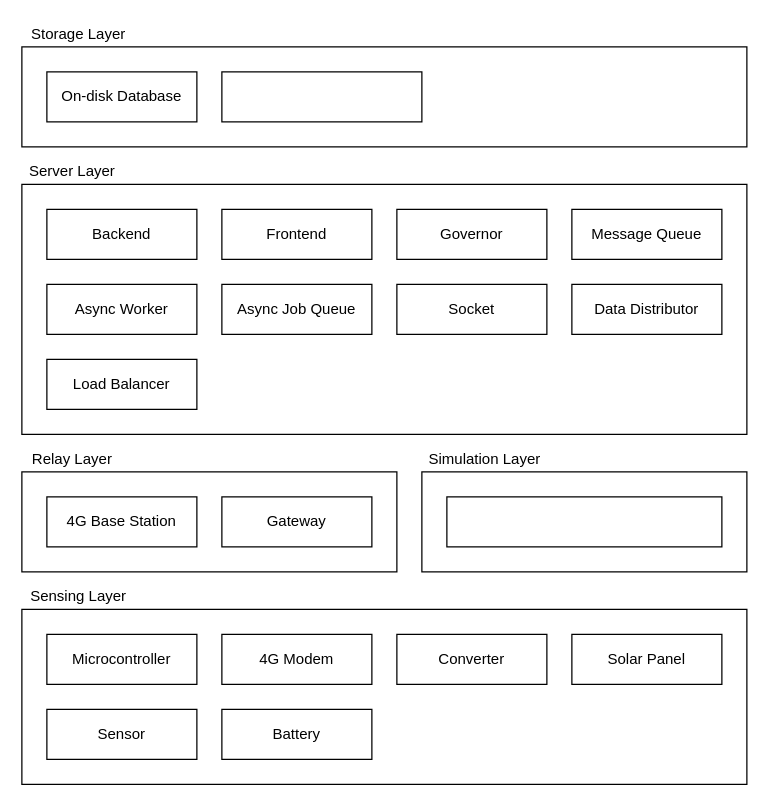
Image size: 769x806. Some labels were removed from this diagram. Each missing label, with the centre of its shape:
"In-memory Database" belongs at (321,96).
"Sensing Layer Simulator" belongs at (584,521).
